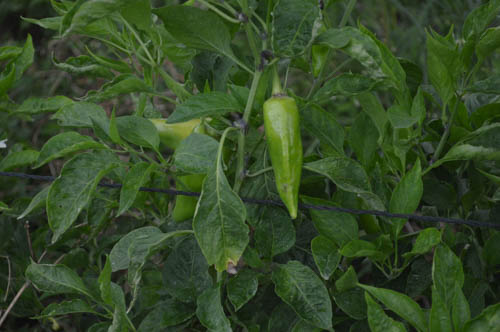ChiliPepper: (263, 95, 307, 218), (144, 115, 218, 152)
